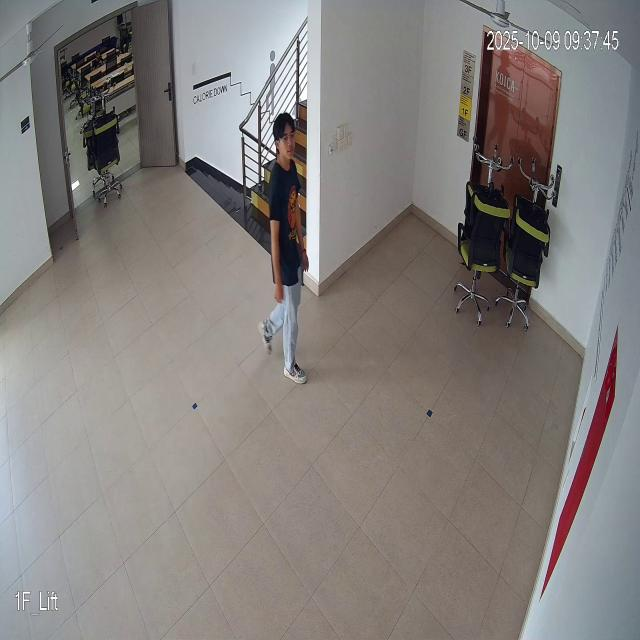face: (273, 104, 296, 166)
